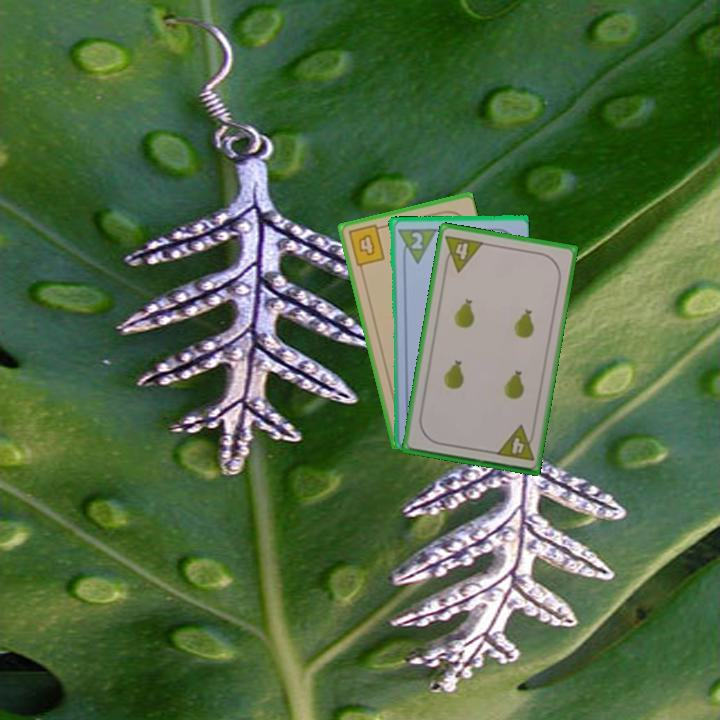2p: (408, 228, 425, 252)
4b: (344, 221, 387, 269)
4p: (440, 231, 486, 275), (492, 422, 538, 464)
